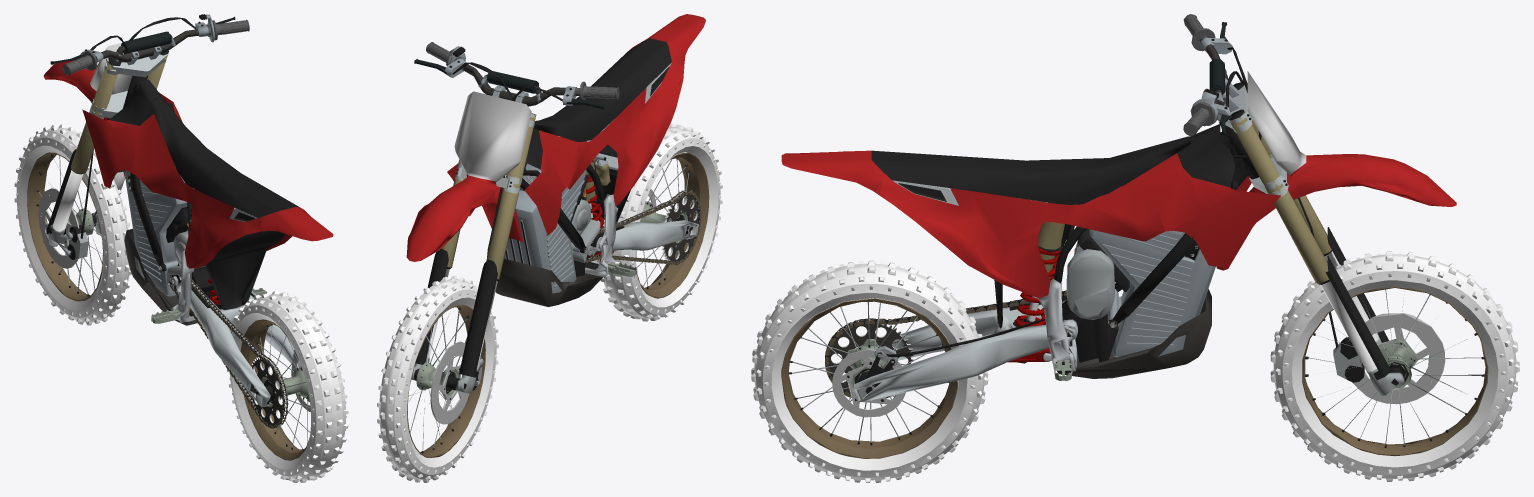
File: stark-varg-mx1.glb
3 views of the same model, side by side, from view 1: azimuth 30°, elevation 25°; view 2: azimuth 150°, elevation 25°; view 3: azimuth 270°, elevation 25° (orthographic). The views are drawn at different scales.
Parts seen in each view (by area): view 1: Frame; view 2: Frame; view 3: Frame.
Boxes of the visible parts, x1,y1,x2,y2 form: Frame: (14, 14, 348, 482); Frame: (377, 14, 722, 482); Frame: (751, 14, 1519, 482).
Bounding box in the file's own units: 1.42 × 2.54 × 4.19.
Materials: 1 (1 with a texture image).
